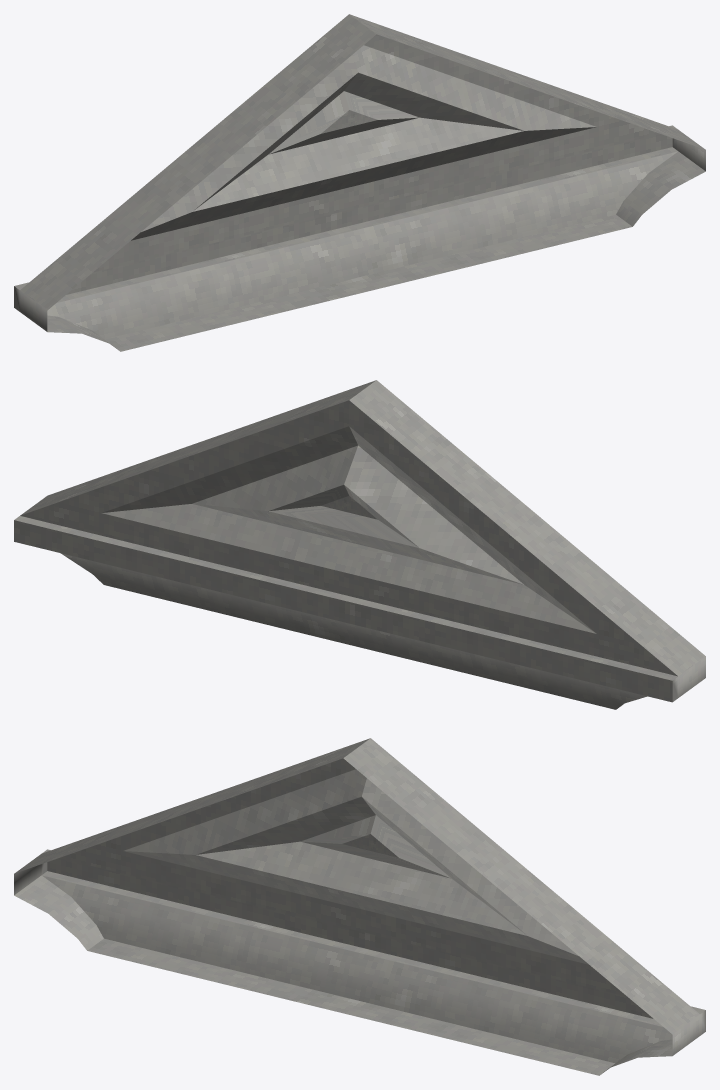
Rendered from GJ_Wall_Window_04.fbx.
The picture shows the model from 3 angles, top to bottom: view 1: azimuth 30°, elevation 25°; view 2: azimuth 150°, elevation 25°; view 3: azimuth 330°, elevation 25°; orthographic projection.
Parts seen in each view (by area): view 1: GJ_Wall_Window_04; view 2: GJ_Wall_Window_04; view 3: GJ_Wall_Window_04.
Boxes of the visible parts, x1=… form: GJ_Wall_Window_04: x1=14, y1=14, x2=705, y2=351; GJ_Wall_Window_04: x1=14, y1=380, x2=705, y2=709; GJ_Wall_Window_04: x1=14, y1=738, x2=705, y2=1075.
Bounding box in the file's own units: 169 × 62.56 × 14.88.
